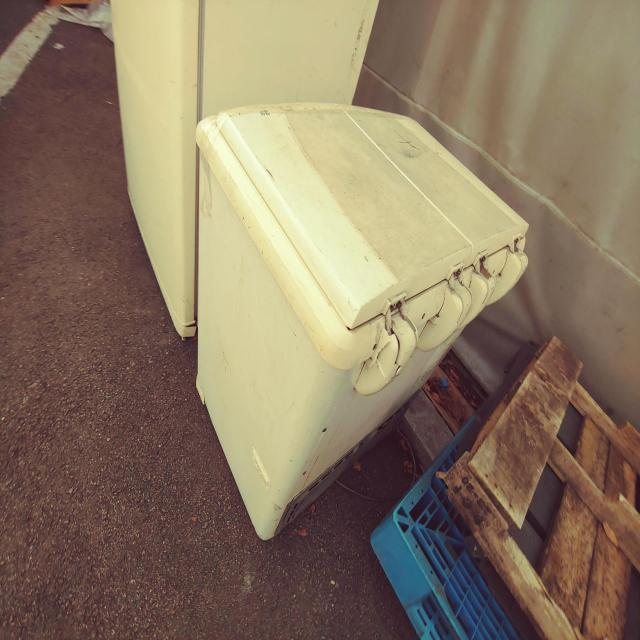refrigerator: (194, 100, 530, 540)
